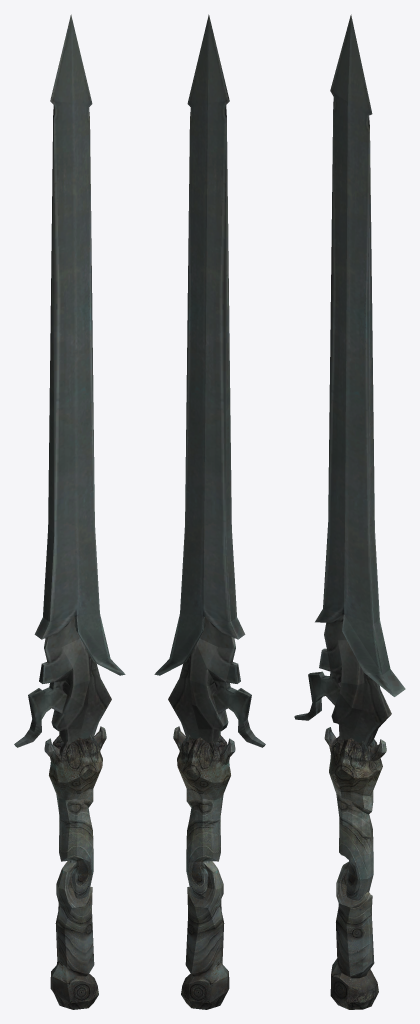
File: player_sword.fbx
3 renders of one model, left to right at view 1: azimuth 30°, elevation 25°; view 2: azimuth 150°, elevation 25°; view 3: azimuth 330°, elevation 25°, orthographic.
Parts seen in each view (by area): view 1: player_sword1; view 2: player_sword1; view 3: player_sword1.
Part boxes in pixels (x1=…): player_sword1: x1=14, y1=14, x2=125, y2=1009; player_sword1: x1=154, y1=14, x2=265, y2=1009; player_sword1: x1=294, y1=14, x2=405, y2=1009.
Bounding box in the file's own units: 0.5364 × 4.84 × 0.2441.
